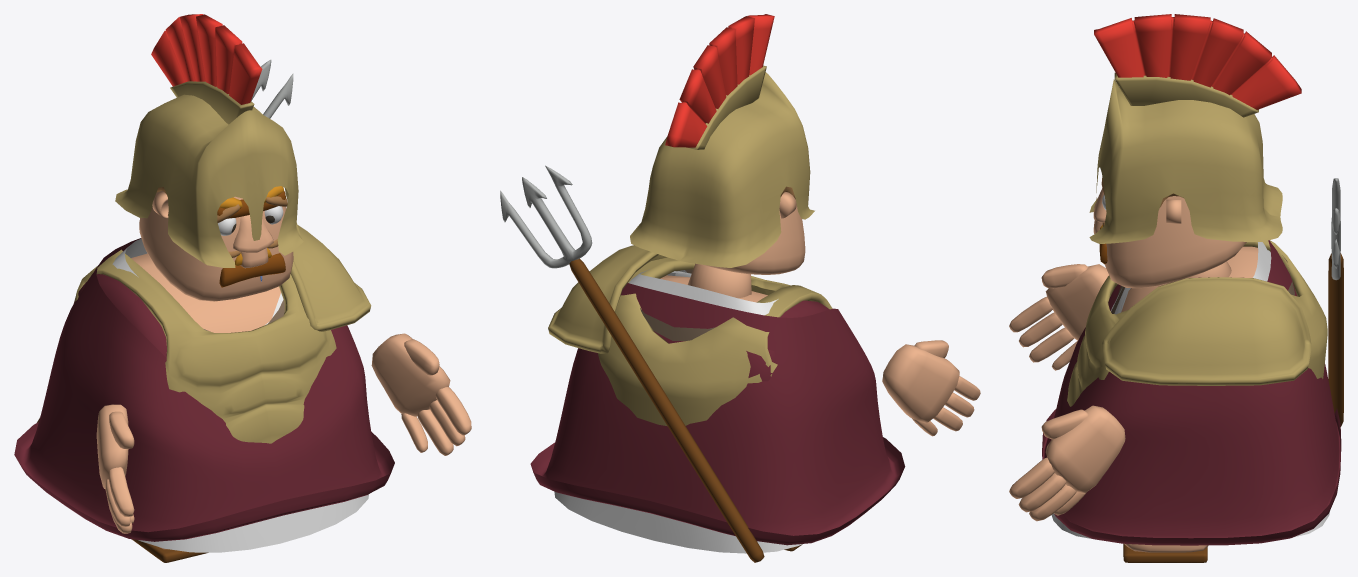
File: TestPersonajes.fbx
3 views of the same model, side by side, from view 1: azimuth 30°, elevation 25°; view 2: azimuth 150°, elevation 25°; view 3: azimuth 270°, elevation 25° (orthographic). The views are drawn at different scales.
Visible parts, largest first — view 1: Plane.008, Plane, Plane.009, Cube.007, Plane.004, Cube.001, Plane.001, Plane.007, Cube.005, Plane.003, Plane.005, Cube.004 (+3 smaller); view 2: Plane.008, Plane, Plane.009, Plane.004, Plane.007, Cube.007, Cube.011, Plane.001, Cube.012, Cube.001, Plane.005, Cylinder.001 (+2 smaller); view 3: Plane.008, Plane, Plane.001, Cube.007, Plane.004, Cube.001, Plane.009, Plane.005, Cube.011, Cube, Cube.005, Cube.012 (+1 smaller).
Part boxes in pixels (x1,y1,x2,y2): Plane.008: [14, 238, 394, 541]; Plane: [115, 94, 303, 267]; Plane.009: [74, 249, 336, 443]; Cube.007: [96, 333, 471, 533]; Plane.004: [151, 14, 262, 104]; Cube.001: [139, 191, 293, 301]; Plane.001: [290, 225, 371, 331]; Plane.007: [112, 238, 368, 552]; Cube.005: [131, 253, 280, 332]; Plane.003: [74, 274, 166, 357]; Plane.005: [170, 81, 254, 124]; Cube.004: [219, 253, 285, 287]; Plane.008: [530, 283, 905, 545]; Plane: [630, 72, 814, 267]; Plane.009: [598, 257, 832, 426]; Plane.004: [665, 14, 774, 147]; Plane.007: [554, 269, 802, 553]; Cube.007: [882, 340, 980, 436]; Cube.011: [569, 258, 764, 562]; Plane.001: [548, 245, 666, 353]; Cube.012: [500, 165, 592, 268]; Cube.001: [702, 200, 805, 274]; Plane.005: [688, 65, 766, 149]; Cylinder.001: [687, 263, 751, 298]; Plane.008: [1042, 240, 1341, 545]; Plane: [1089, 79, 1282, 243]; Plane.001: [1102, 277, 1311, 385]; Cube.007: [1009, 264, 1125, 521]; Plane.004: [1094, 14, 1301, 109]; Cube.001: [1104, 196, 1246, 288]; Plane.009: [1067, 240, 1327, 406]; Plane.005: [1114, 72, 1258, 117]; Cube.011: [1328, 253, 1343, 426]; Cube: [1123, 543, 1208, 562]; Cube.005: [1121, 246, 1258, 312]; Cube.012: [1331, 178, 1340, 280].
Bounding box in the file's own units: 460 × 627 × 374.
